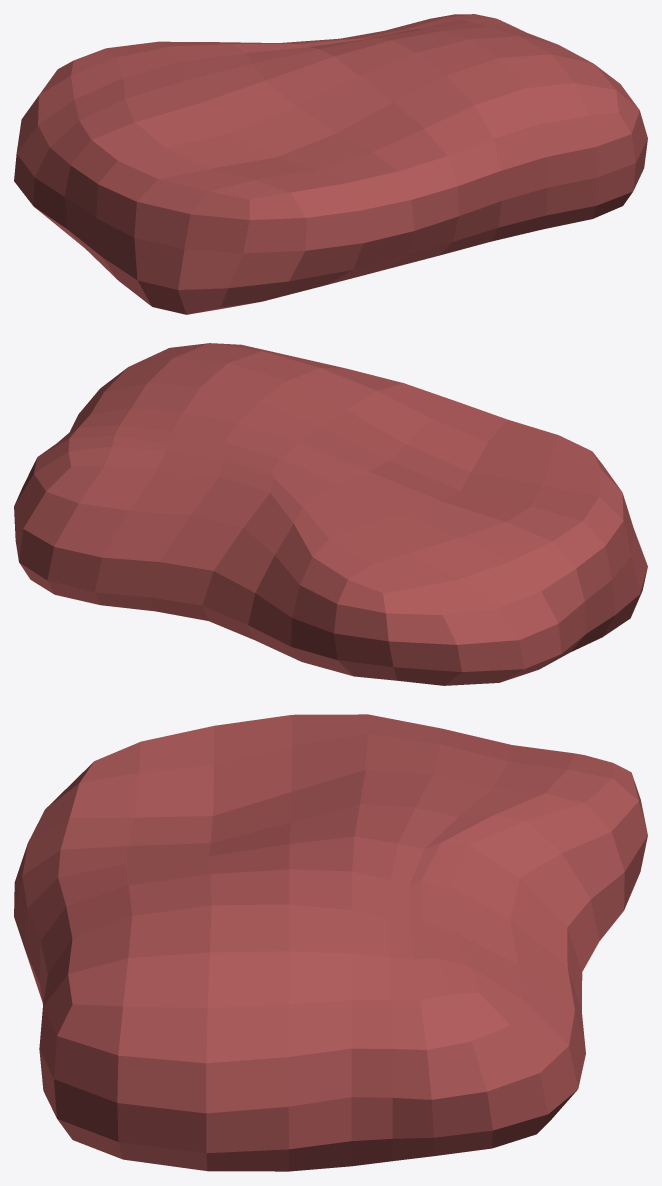
Rendered from DirtRock.fbx.
3 renders of one model, top to bottom at view 1: azimuth 30°, elevation 25°; view 2: azimuth 150°, elevation 25°; view 3: azimuth 270°, elevation 25°, orthographic. The views are drawn at different scales.
Visible parts, largest first — view 1: Cube.001; view 2: Cube.001; view 3: Cube.001.
Part boxes in pixels (left/top/right/bottom): Cube.001: left=14, top=14, right=647, bottom=314; Cube.001: left=14, top=343, right=647, bottom=685; Cube.001: left=14, top=714, right=647, bottom=1171.
Bounding box in the file's own units: 268 × 78.48 × 202.
